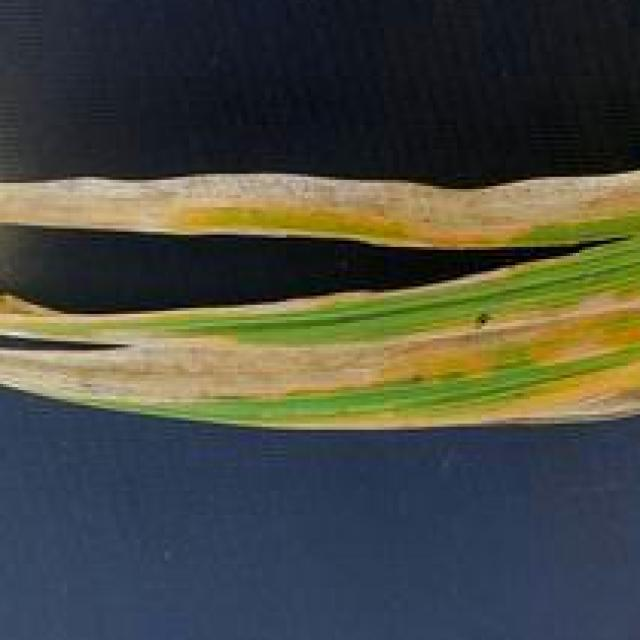Bacterial_Leaf_Blight: (15, 144, 640, 436)
